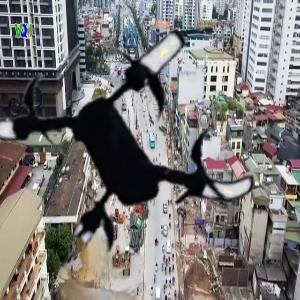drone: (1, 1, 270, 270)
